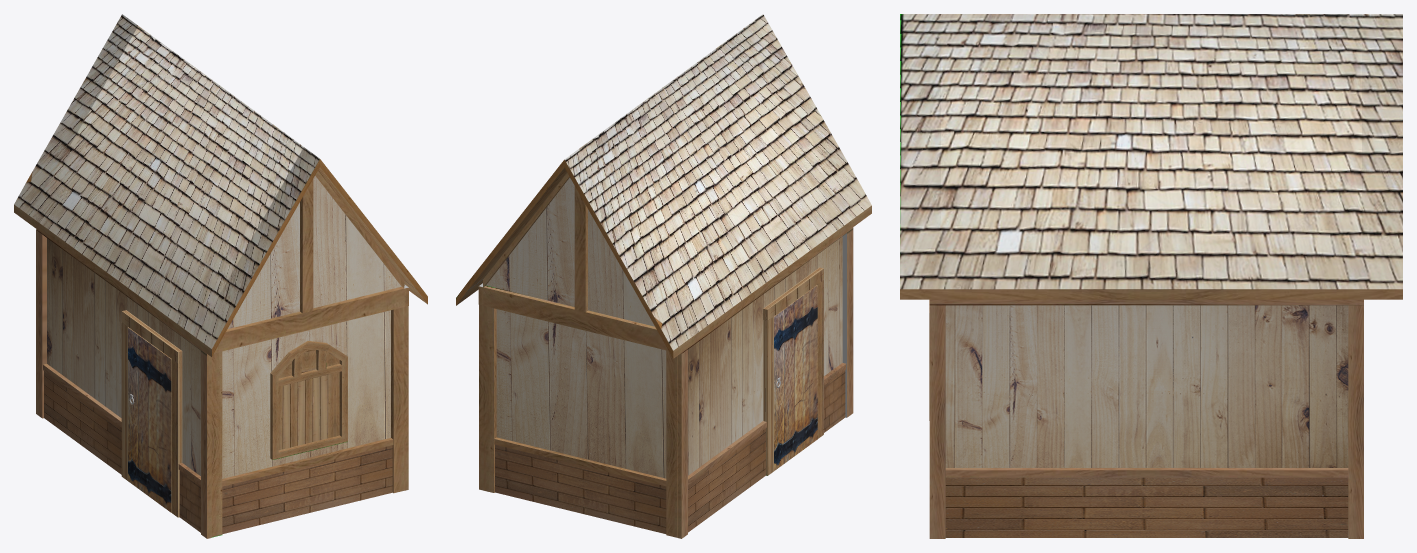
File: casa3.obj
The picture shows the model from 3 angles, left to right: view 1: azimuth 30°, elevation 25°; view 2: azimuth 150°, elevation 25°; view 3: azimuth 270°, elevation 25°; orthographic projection. The views are drawn at different scales.
Parts seen in each view (by area): view 1: casa1_telhado, casa1_paredes, casa1_paredes_lado, casa1_porta_, casa1_janela; view 2: casa1_telhado, casa1_paredes, casa1_paredes_lado, casa1_porta_, casa1; view 3: casa1_telhado, casa1_paredes_lado.
Boxes of the visible parts, left/top/right/bottom form: casa1_telhado: left=14, top=14, right=427, bottom=356; casa1_paredes: left=207, top=171, right=408, bottom=538; casa1_paredes_lado: left=36, top=229, right=206, bottom=538; casa1_porta_: left=121, top=310, right=182, bottom=517; casa1_janela: left=270, top=341, right=347, bottom=459; casa1_telhado: left=456, top=14, right=871, bottom=358; casa1_paredes: left=478, top=173, right=681, bottom=538; casa1_paredes_lado: left=681, top=227, right=853, bottom=538; casa1_porta_: left=763, top=267, right=823, bottom=475; casa1: left=479, top=233, right=846, bottom=417; casa1_telhado: left=900, top=14, right=1402, bottom=299; casa1_paredes_lado: left=929, top=299, right=1363, bottom=538.
Size of the model in its own units: 22.4 by 36.05 by 35.5.
